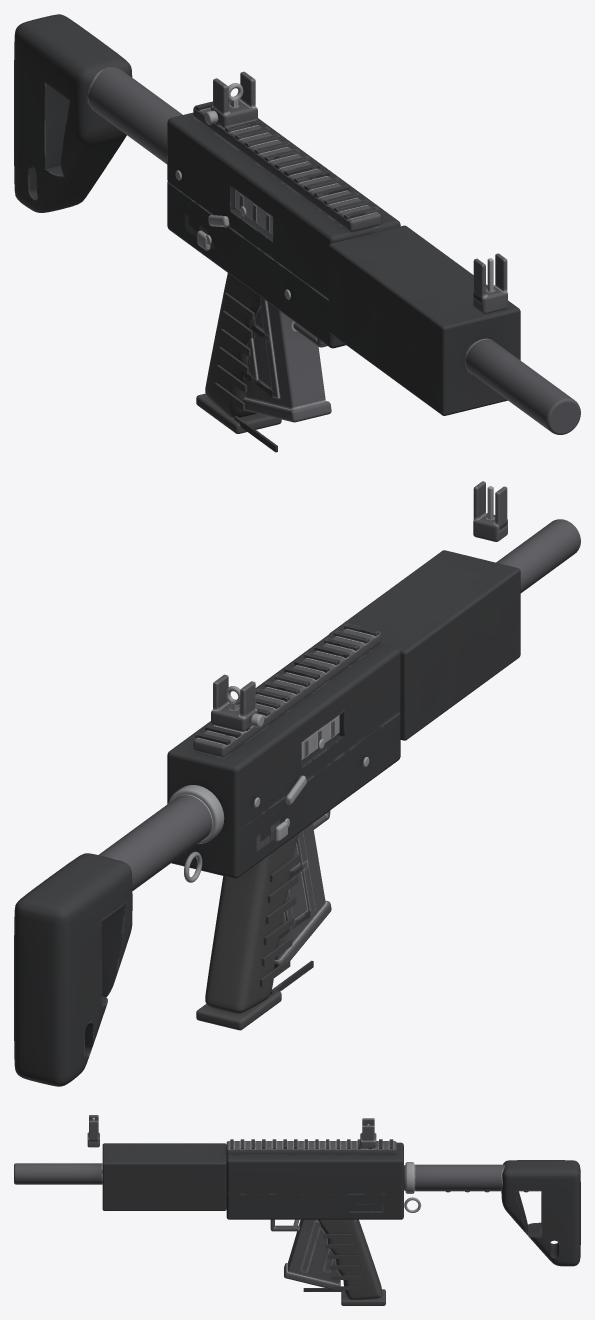
The model's file is mag7.fbx.
3 views of the same model, one above another, from view 1: azimuth 30°, elevation 25°; view 2: azimuth 150°, elevation 25°; view 3: azimuth 270°, elevation 25° (orthographic). The views are drawn at different scales.
Visible parts, largest first — view 1: mag7; view 2: mag7; view 3: mag7.
Boxes of the visible parts, left/top/right/bottom form: mag7: left=14, top=14, right=580, bottom=452; mag7: left=14, top=481, right=580, bottom=1086; mag7: left=14, top=1115, right=580, bottom=1305.
Bounding box in the file's own units: 0.0565 × 0.227 × 0.6399.
